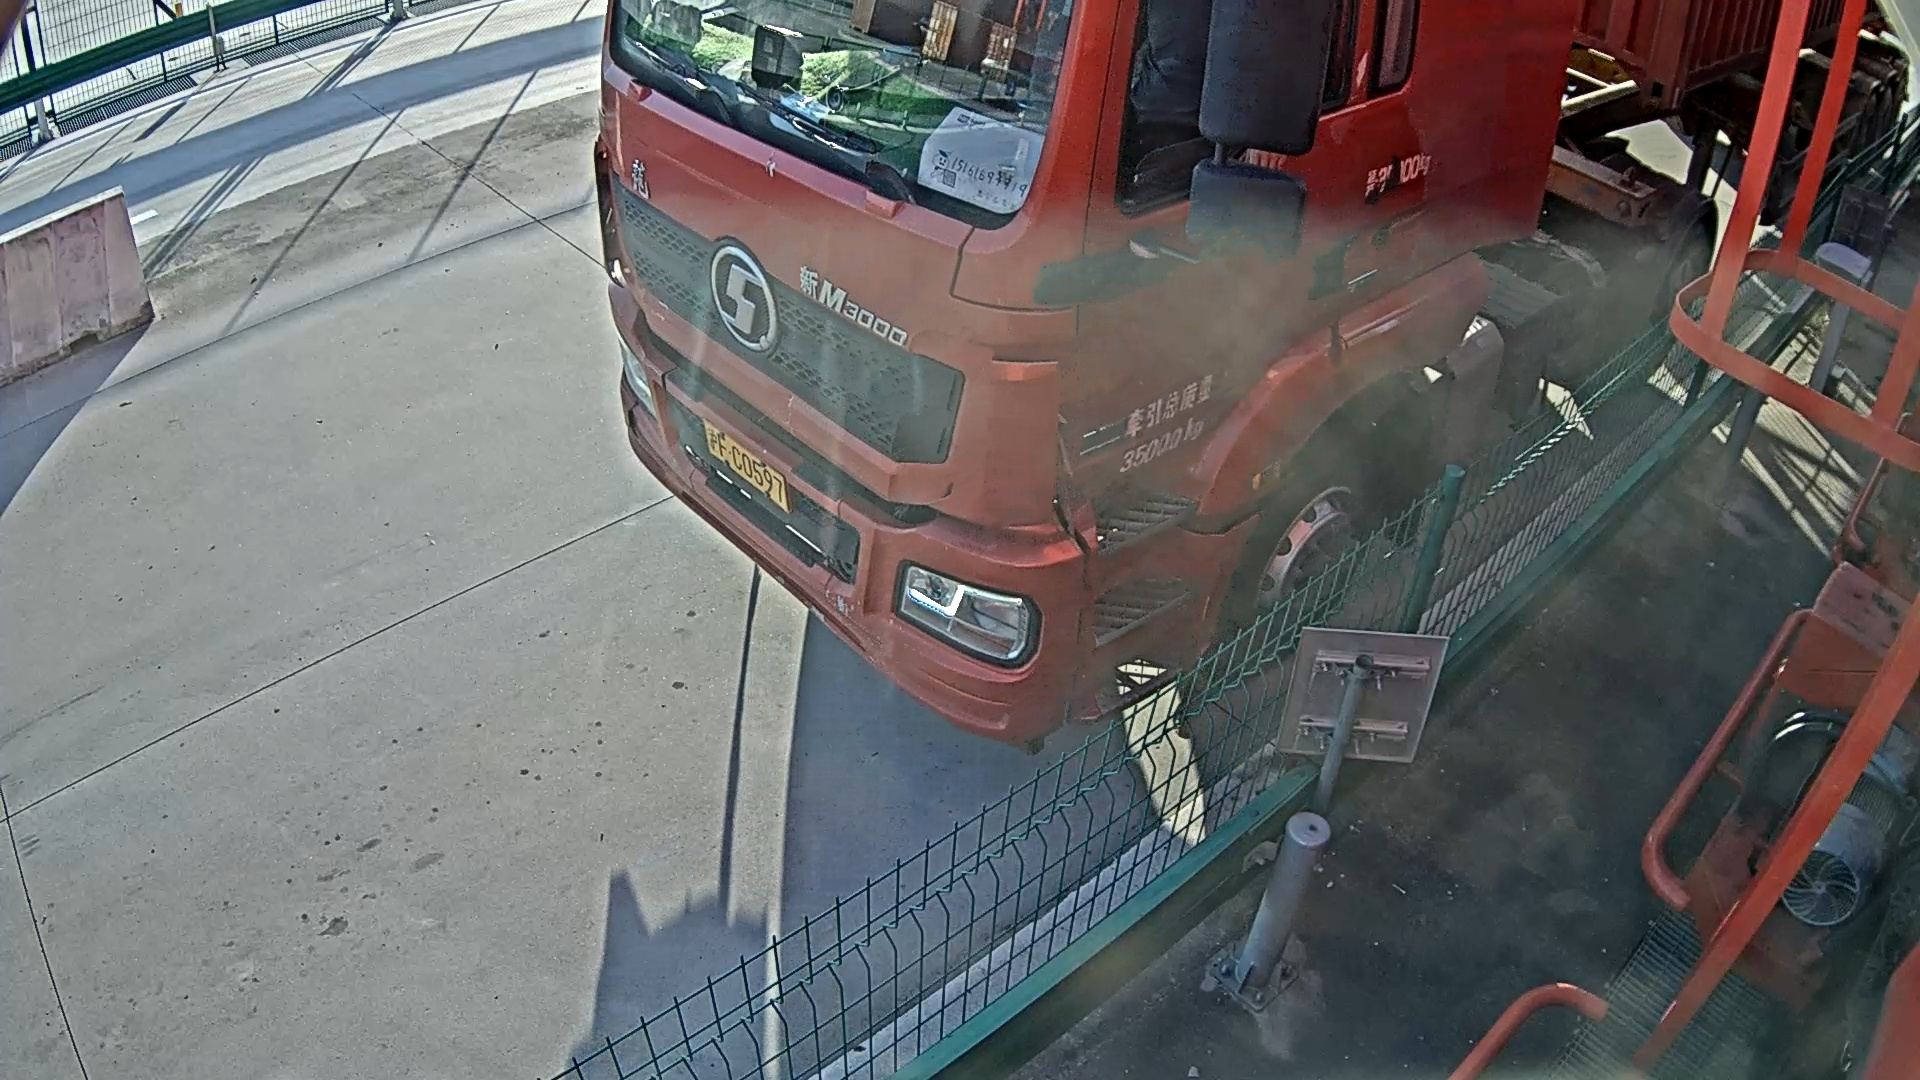head: (595, 10, 1300, 752)
plate: (692, 422, 795, 511)
